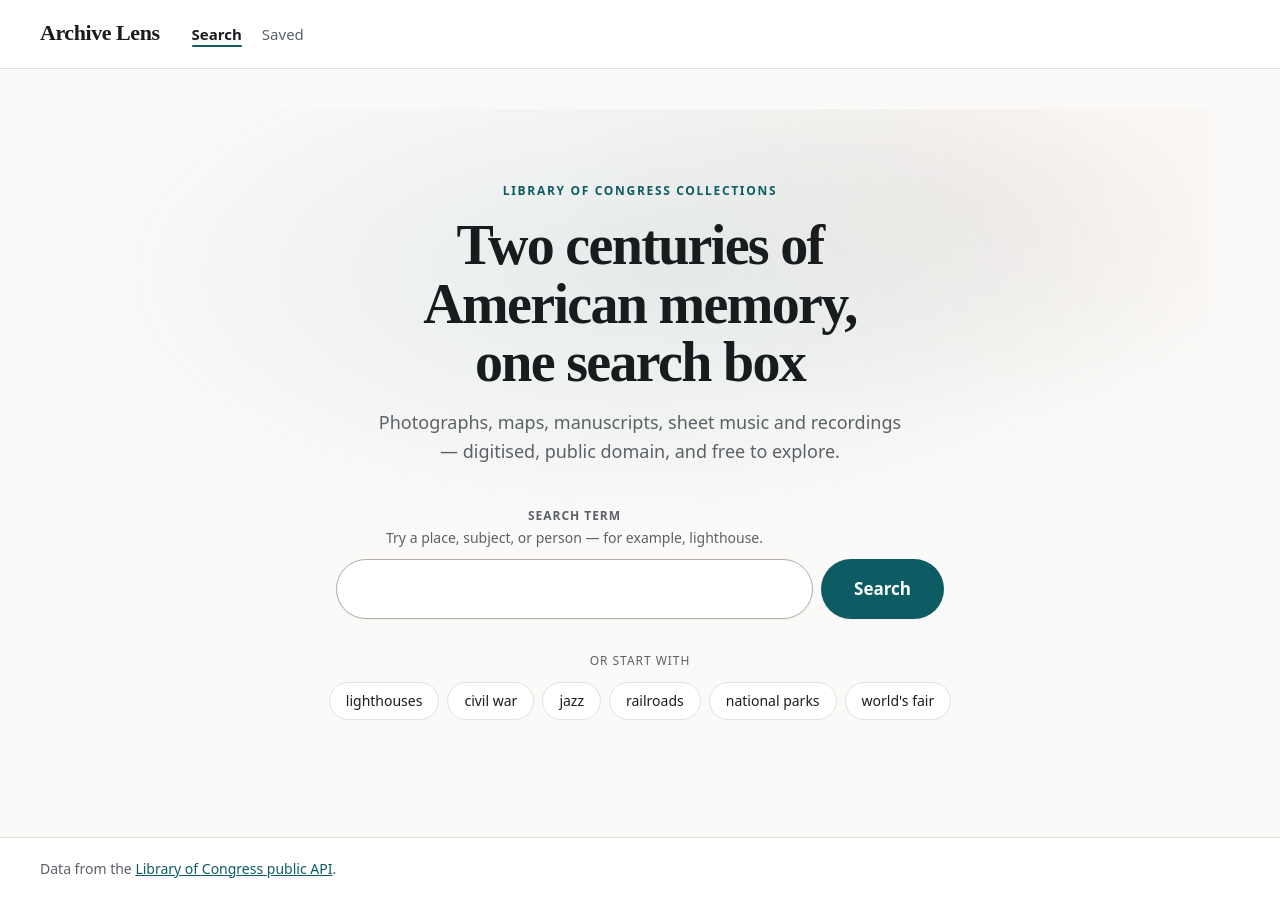
Test: Searching the collection › runs a search from a suggestion chip
This screenshot has width=1280, height=900.
Step 1. Click the link "lighthouses" → (385,701), box x1=329 y1=682 x2=440 y2=720
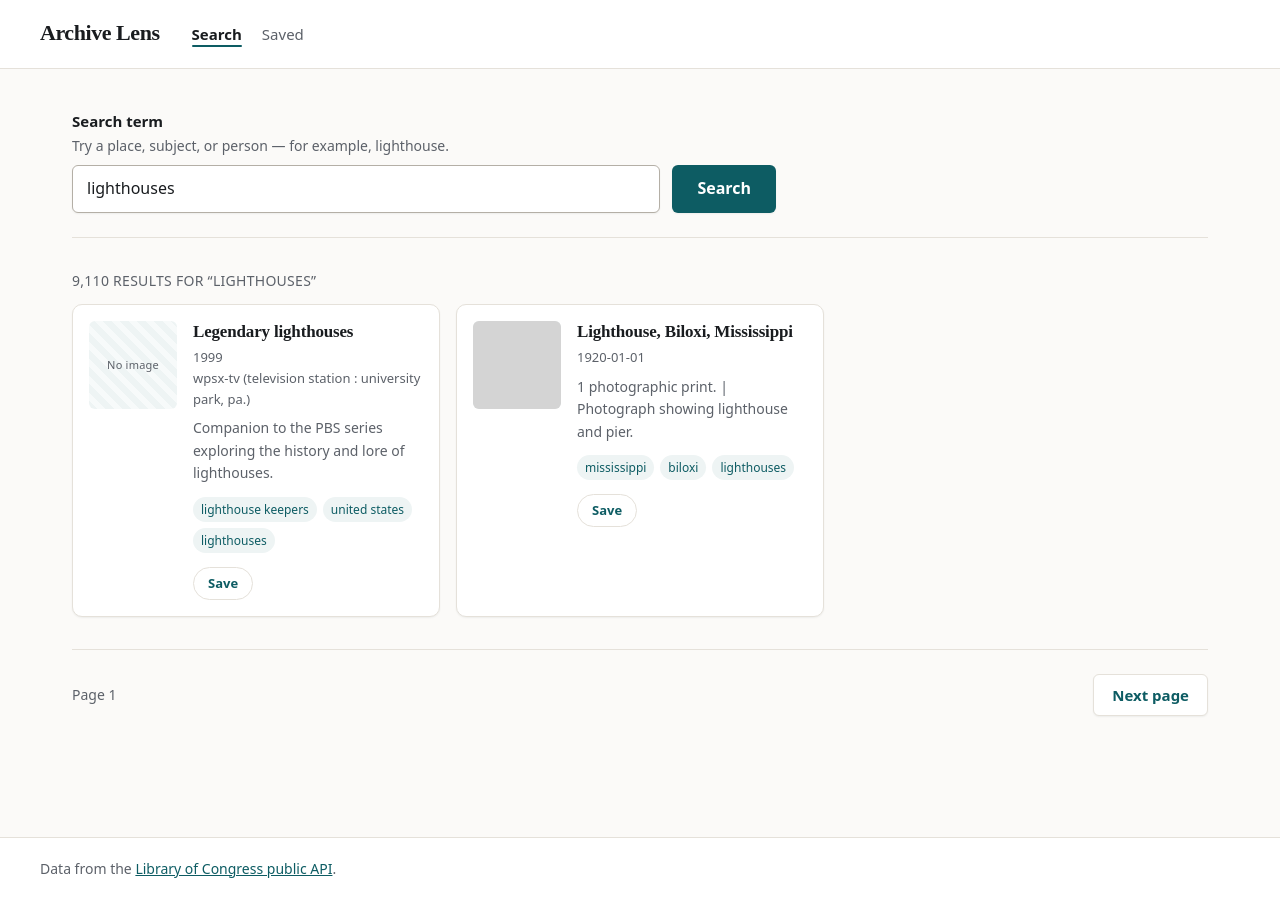
expect the element with class "hero" is gone: met
